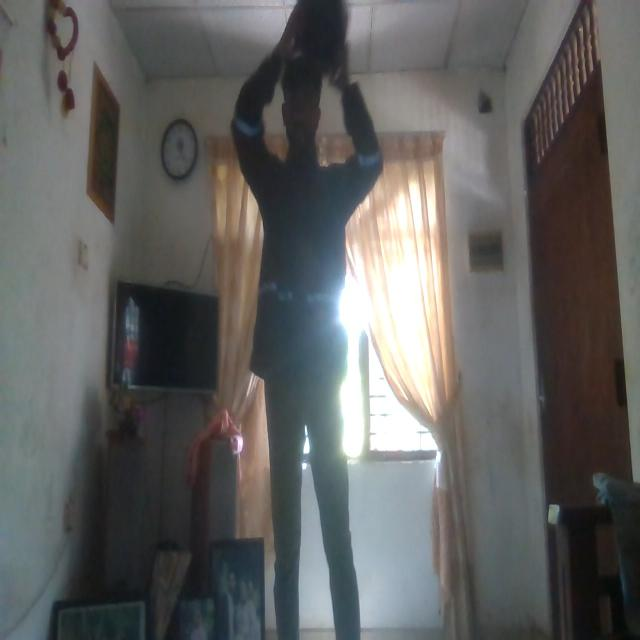Jacket_Wearer: (232, 80, 376, 381)
Person: (222, 47, 384, 640)
